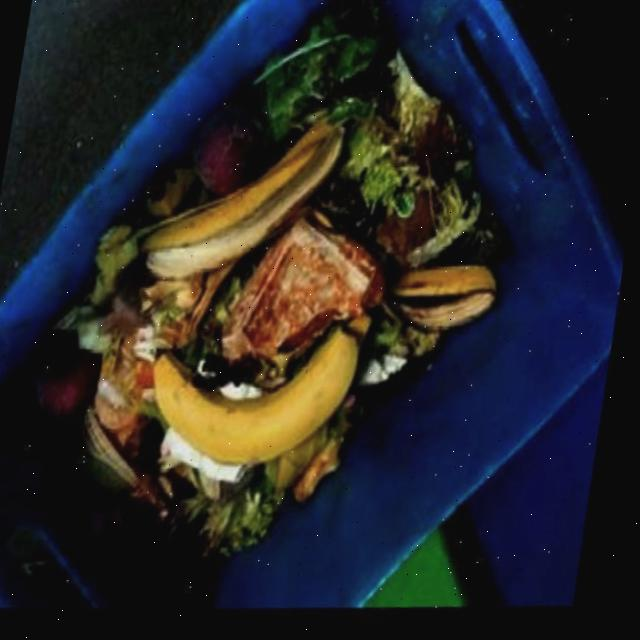Garbage: (5, 0, 508, 564)
